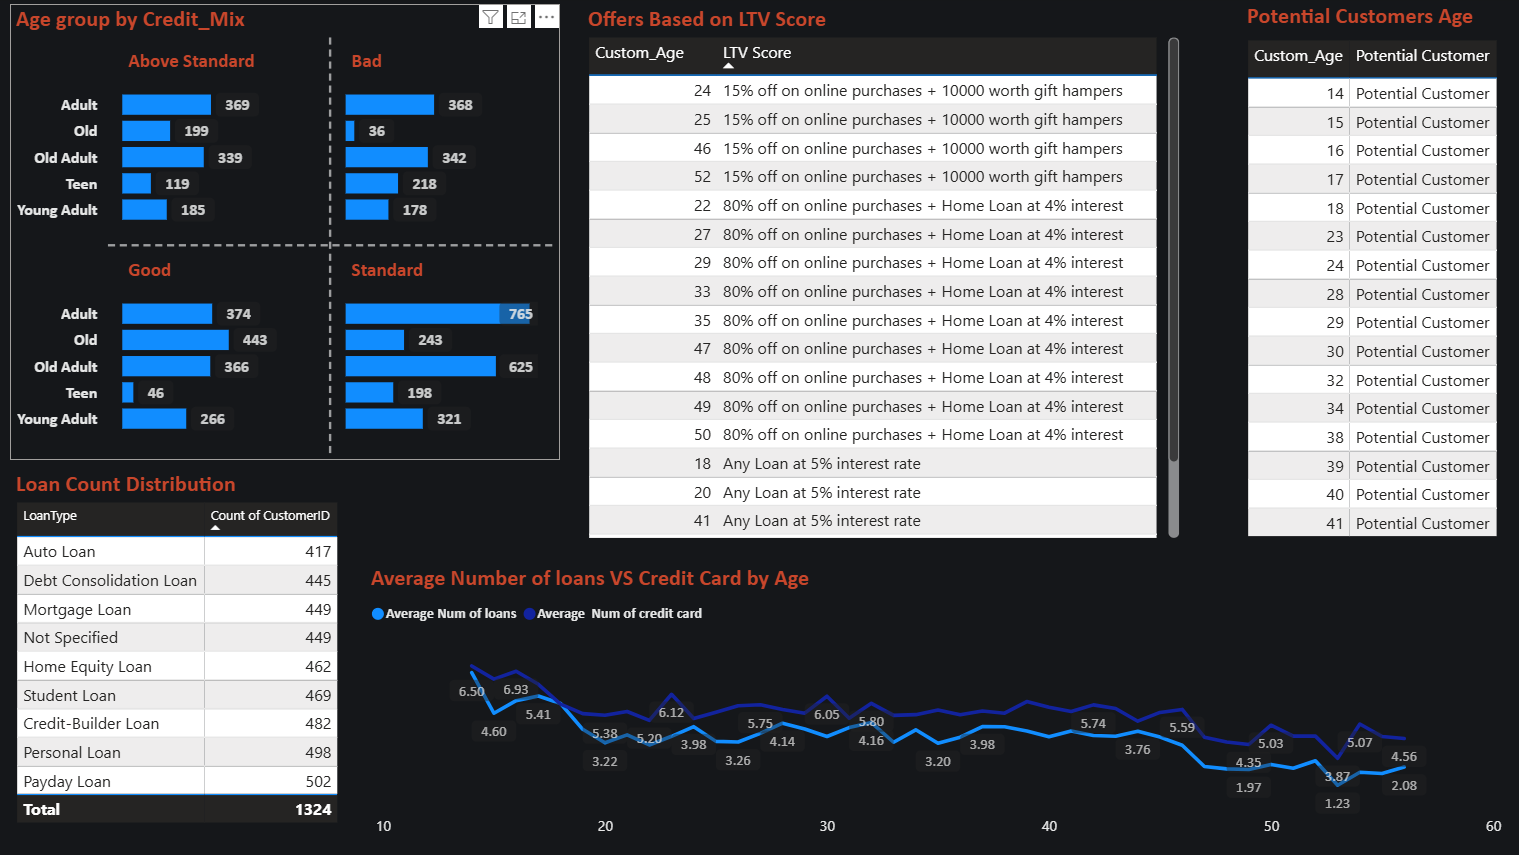

What the dashboard file says about the page in this screenshot:
{"tool":"powerbi","page":{"name":"Page 2","canvas":[1280,720],"ordinal":1},"visuals":[{"type":"tableEx","title":"Offers Based on LTV Score","fields":{"Values":["combined_df.Custom_Age","MeasureTable.LTV Score"]},"box":[491.3,5.8,505.3,451.8],"z":3000},{"type":"clusteredBarChart","title":"Age group by Credit_Mix","fields":{"Y":["CountNonNull(combined_df.Age_group)"],"Category":["combined_df.Age_group"],"Rows":["combined_df.Credit_Mix"]},"box":[12.8,5.8,460,382.1],"z":3001},{"type":"tableEx","title":"Loan Count Distribution","fields":{"Values":["LoanTypeTable.LoanType","LoanTypeTable.CustomerID"]},"box":[12.8,394.9,286.9,317.1],"z":3002},{"type":"lineChart","title":"Average Number of loans VS Credit Card by Age","fields":{"Category":["combined_df.Custom_Age"],"Y":["Avg(combined_df.Custom Num_of_loans)"],"Y2":["Avg(combined_df.Custom_credit_card )"]},"box":[310.1,473.9,959.4,238.1],"z":3003},{"type":"tableEx","title":"Potential Customers Age","fields":{"Values":["combined_df.Custom_Age","MeasureTable.Potential Customer"]},"box":[1043,3.5,224.2,454.2],"z":3004}]}

Visuals, with their boxes in screenshot pixels (x1, y1, x2, y2), scaled from the page's 1280x720 canvas onto the 1519x855 screenshot:
"Offers Based on LTV Score" tableEx: 583:7:1183:543
"Age group by Credit_Mix" clusteredBarChart: 15:7:561:461
"Loan Count Distribution" tableEx: 15:469:356:846
"Average Number of loans VS Credit Card by Age" lineChart: 368:563:1507:846
"Potential Customers Age" tableEx: 1238:4:1504:544
